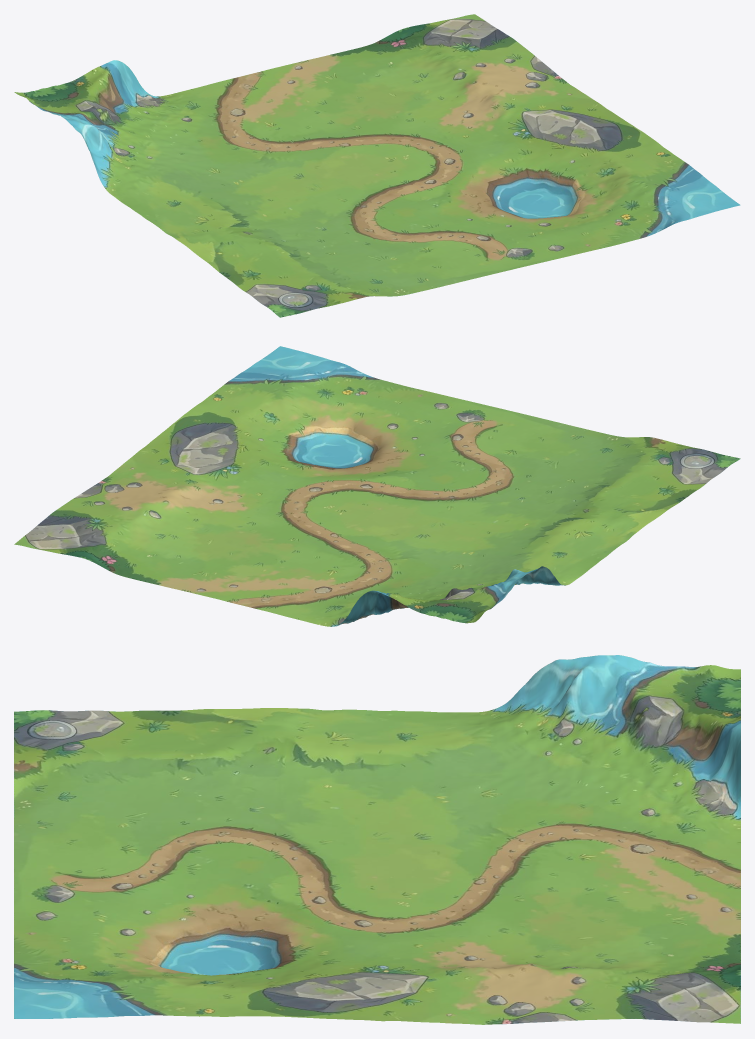
File: terrain.glb
3 renders of one model, top to bottom at view 1: azimuth 30°, elevation 25°; view 2: azimuth 150°, elevation 25°; view 3: azimuth 270°, elevation 25°, orthographic. The views are drawn at different scales.
Bounding box in the file's own units: 256 × 33.66 × 256.
1 material, 1 textured.
